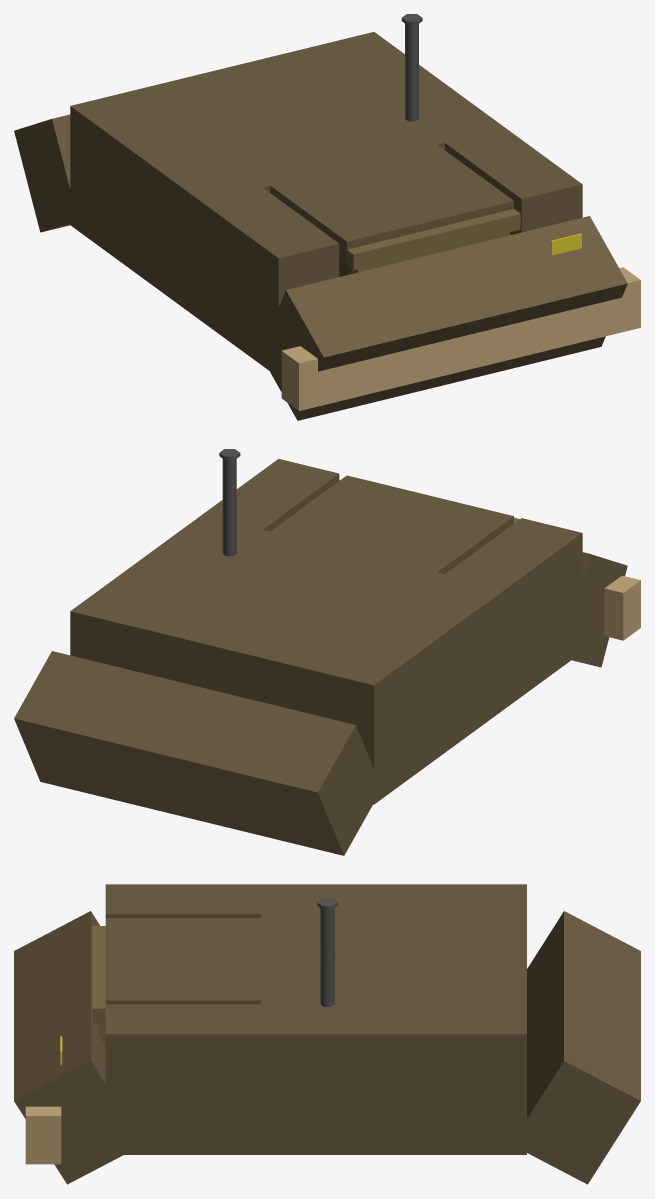
File: ammo-bunker.glb
3 renders of one model, top to bottom at view 1: azimuth 30°, elevation 25°; view 2: azimuth 150°, elevation 25°; view 3: azimuth 270°, elevation 25°, orthographic.
Visible parts, largest first — view 1: Mesh_MoundRear, Mesh_SlopeFront, Mesh_MoundLeft, Mesh_MoundTop, Mesh_Revetment, Mesh_MoundRight, Mesh_SlopeBack, Mesh_Lintel, Mesh_VentPipe, Mesh_Frame; view 2: Mesh_MoundRear, Mesh_SlopeBack, Mesh_MoundTop, Mesh_MoundLeft, Mesh_MoundRight, Mesh_SlopeFront, Mesh_Revetment, Mesh_VentPipe; view 3: Mesh_MoundRear, Mesh_SlopeBack, Mesh_MoundRight, Mesh_SlopeFront, Mesh_MoundTop, Mesh_MoundLeft, Mesh_Revetment, Mesh_VentPipe, Mesh_Lintel.
Boxes of the visible parts, box(x1,y1,x2,y2) form: Mesh_MoundRear: box(70, 32, 504, 313); Mesh_SlopeFront: box(270, 216, 627, 420); Mesh_MoundLeft: box(191, 182, 339, 377); Mesh_MoundTop: box(259, 145, 513, 265); Mesh_Revetment: box(281, 267, 640, 410); Mesh_MoundRight: box(445, 128, 582, 235); Mesh_SlopeBack: box(14, 114, 77, 232); Mesh_Lintel: box(347, 209, 520, 270); Mesh_VentPipe: box(405, 24, 418, 121); Mesh_Frame: box(351, 232, 509, 273); Mesh_MoundRear: box(70, 515, 505, 804); Mesh_SlopeBack: box(14, 651, 381, 855); Mesh_MoundTop: box(261, 475, 513, 580); Mesh_MoundLeft: box(445, 518, 582, 707); Mesh_MoundRight: box(191, 459, 339, 537); Mesh_SlopeFront: box(563, 552, 627, 667); Mesh_Revetment: box(604, 575, 640, 640); Mesh_VentPipe: box(222, 459, 236, 556); Mesh_MoundRear: box(261, 884, 526, 1154); Mesh_SlopeBack: box(511, 911, 640, 1184); Mesh_MoundRight: box(105, 1004, 282, 1154); Mesh_SlopeFront: box(14, 911, 143, 1184); Mesh_MoundTop: box(105, 918, 282, 1004); Mesh_MoundLeft: box(105, 884, 282, 917); Mesh_Revetment: box(25, 1106, 61, 1164); Mesh_VentPipe: box(320, 908, 334, 1006); Mesh_Lintel: box(92, 926, 105, 1024).
Bounding box in the file's own units: 4.5 × 3.14 × 7.07.
